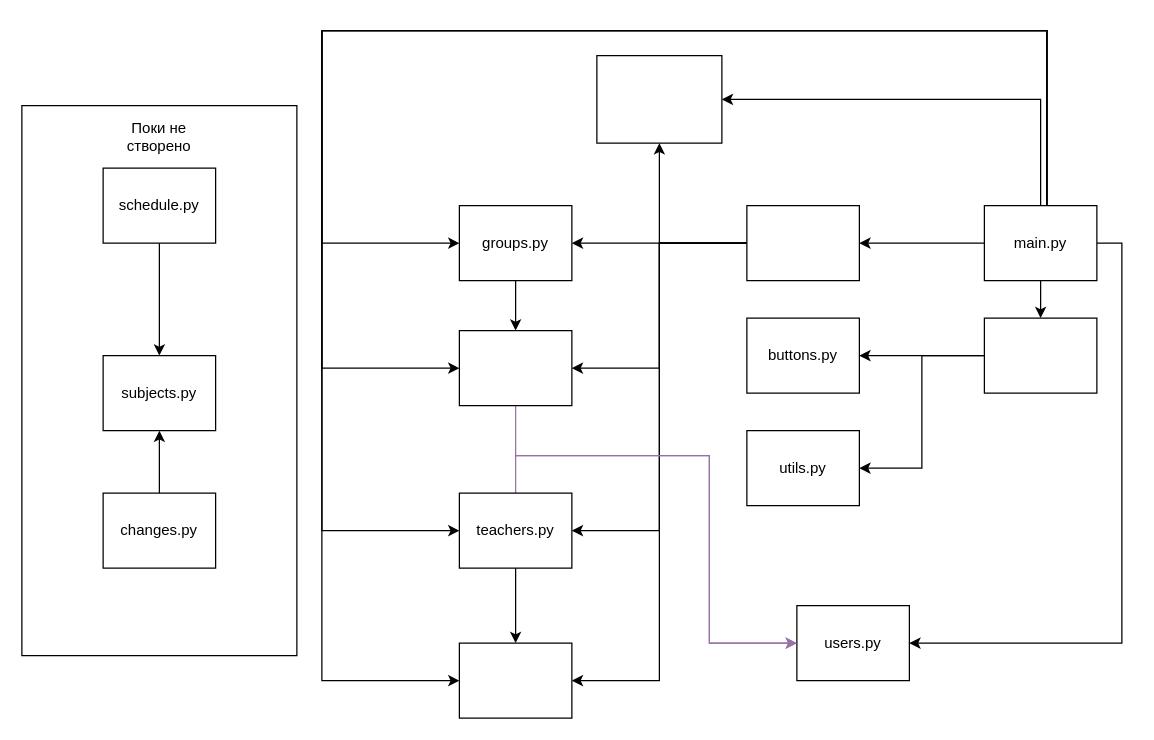
The diagram is 1154 pixels wide and 740 high, and some of its shapes have lost their labels. The shapes that lost their labels are listed below. From the top down, each one's centre as x and y in pixels, then its label:
At point (659, 98): "apiService.py".
At point (802, 242): "register.py".
At point (515, 367): "courses.py".
At point (1040, 355): "markup.py".
At point (515, 680): "disciplines.py".
